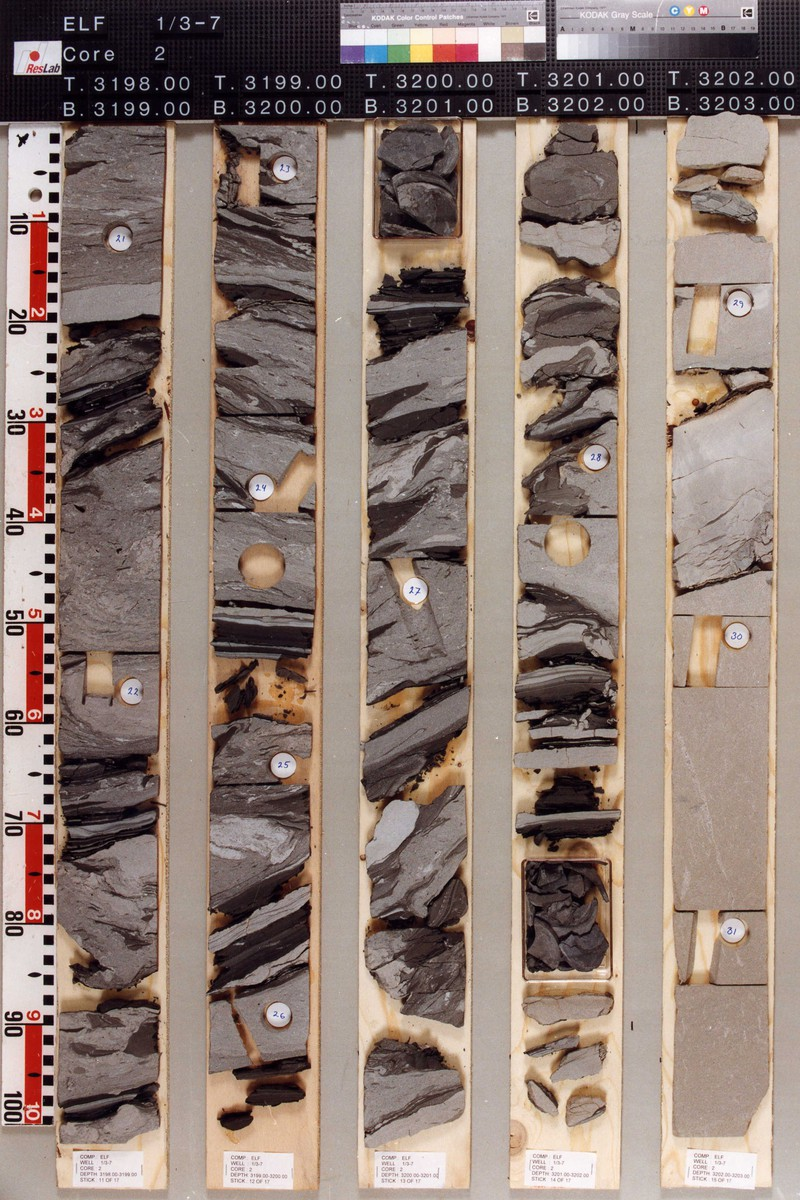core: (209, 126, 321, 1137), (58, 125, 166, 1147), (516, 119, 623, 1131), (363, 121, 468, 1151), (670, 116, 776, 1135)
